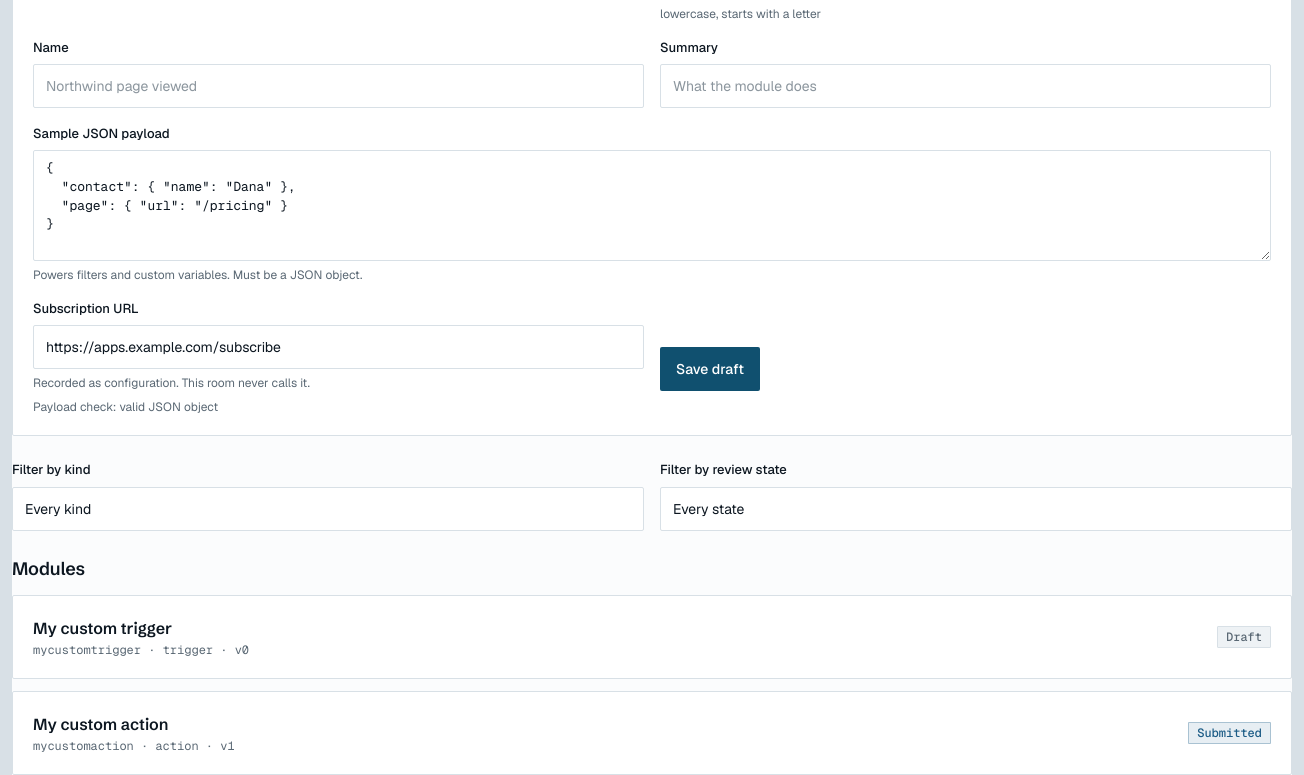
Test: the page › shows the recorded endpoints once a module is selected
(page scrolled)
Expected: the text "My custom trigger" is shown, x1=33 y1=618 x2=172 y2=638
Click the button "My custom trigger mycustomtrigger · trigger · v0 Draft" at (103, 628), box x1=33 y1=616 x2=1271 y2=658
(page scrolled)
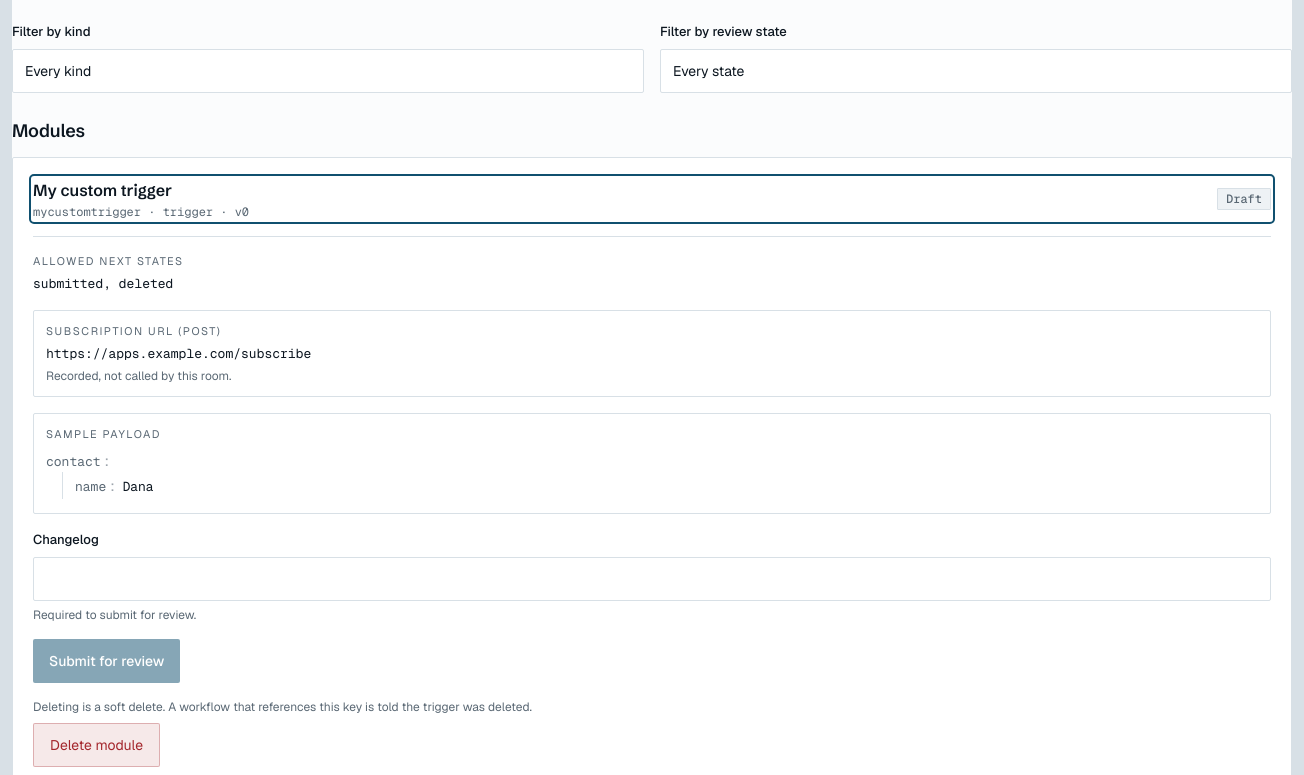
Expected: the text "Subscription URL (POST)" is shown, x1=46 y1=324 x2=221 y2=338
Expected: the text "Recorded, not called by this room." is shown, x1=46 y1=368 x2=231 y2=384
